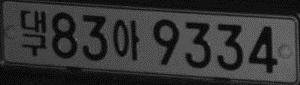3: (184, 21, 212, 69), (216, 23, 244, 71), (81, 14, 108, 61)
4: (248, 25, 278, 73)
8: (51, 11, 78, 59)
9: (152, 18, 179, 66)
대구_V: (19, 8, 48, 57)
아: (112, 19, 140, 60)
